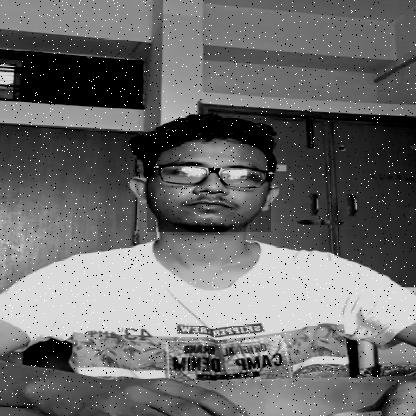Normal: (148, 137, 272, 232)
